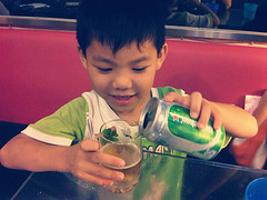person: (1, 2, 258, 188)
